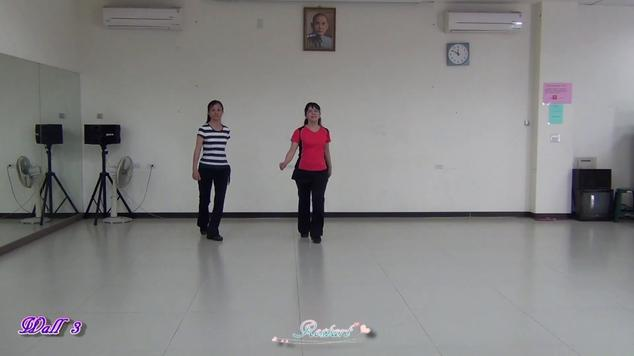stay: (283, 96, 340, 246), (188, 101, 237, 243)
walk: (283, 96, 340, 246)
